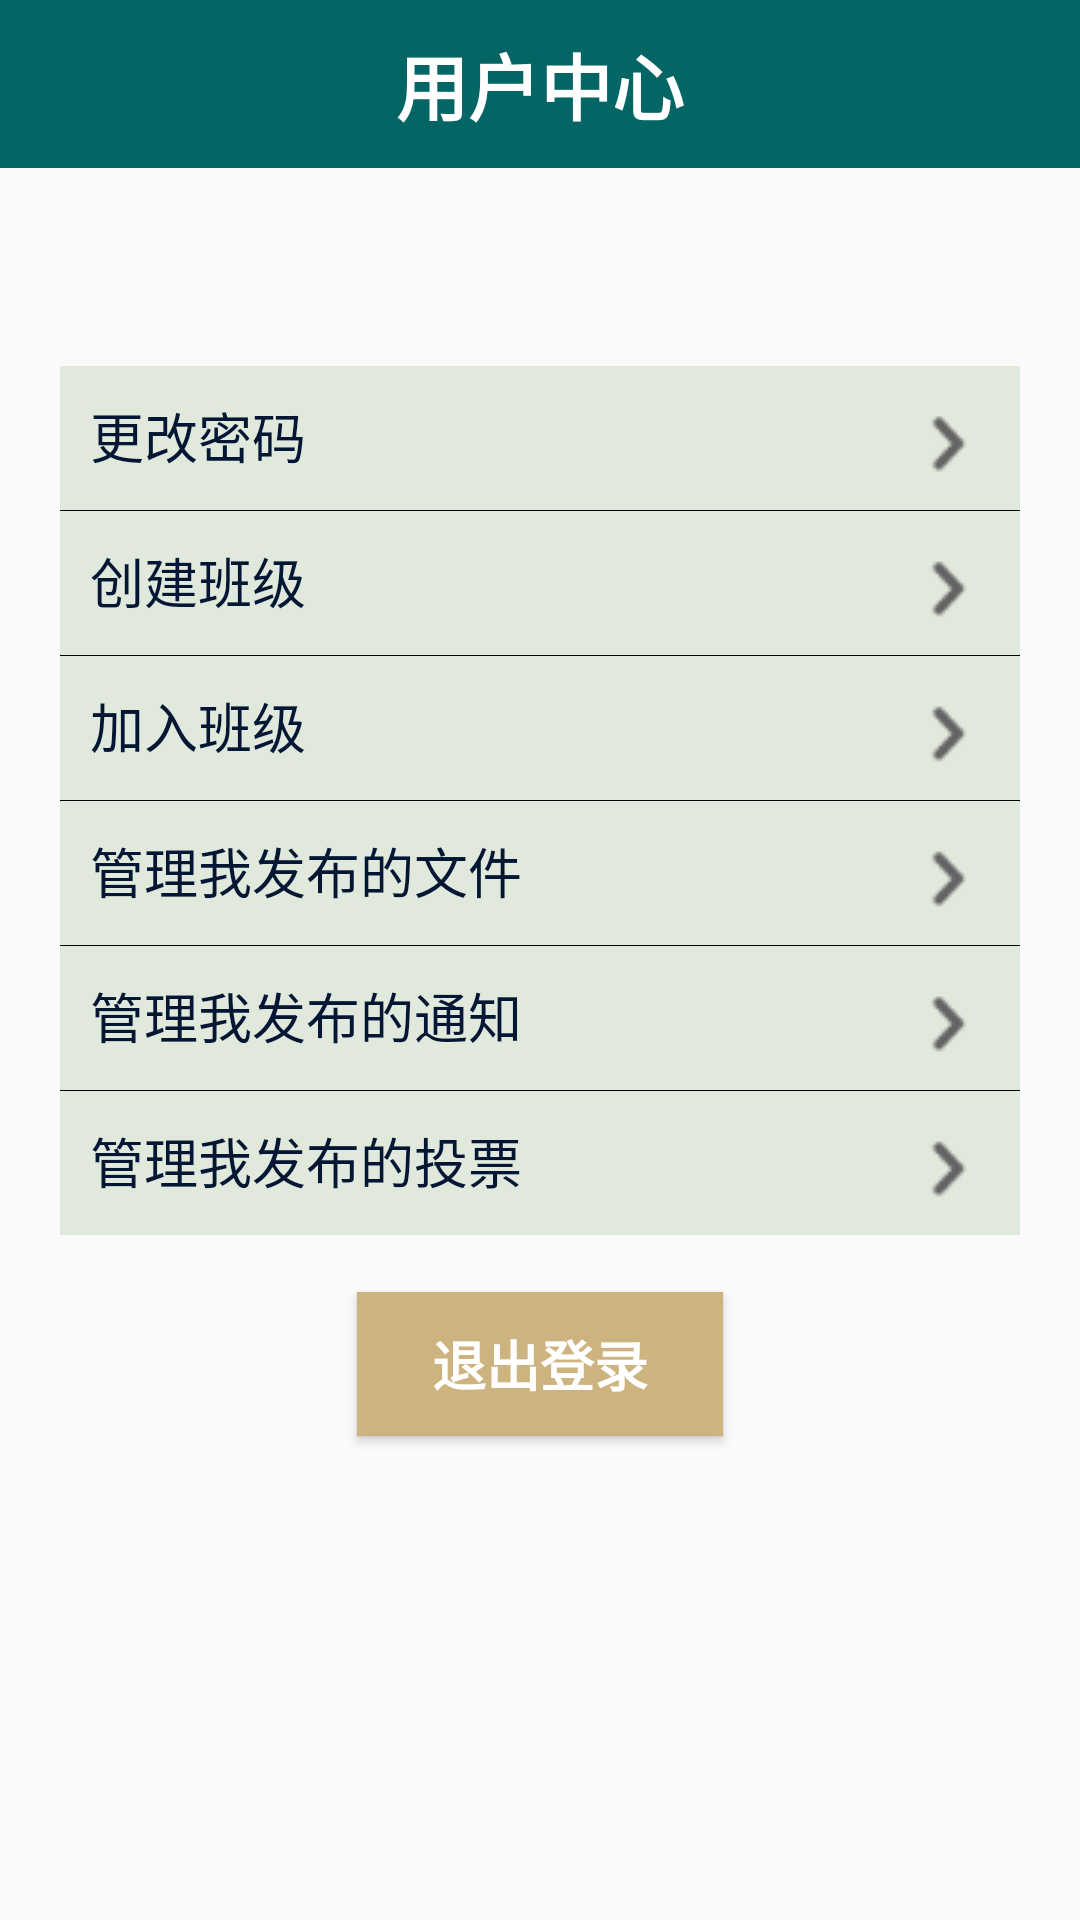

Screen size 1080 × 1920. Icon name, then its box in pixels as bbox(x1, y1, x2, y2):
了解更多: bbox(932, 416, 965, 471), bbox(932, 561, 965, 616), bbox(932, 706, 965, 761), bbox(932, 851, 965, 906), bbox(932, 996, 965, 1051), bbox(932, 1141, 965, 1196)
